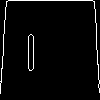I: (24, 25, 37, 71)
